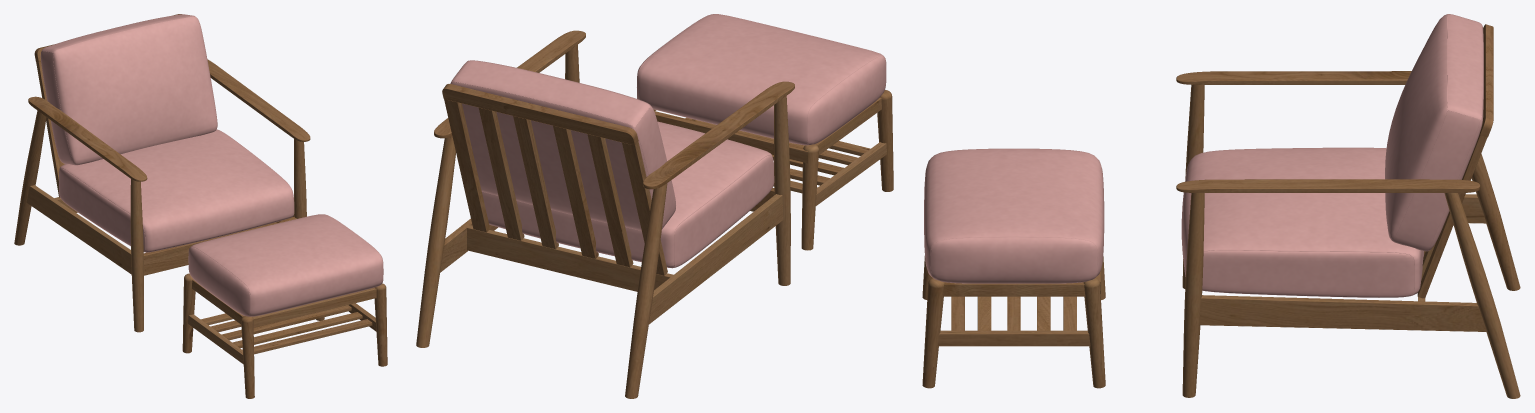
The model's file is chair_67_07.001.fbx.
3 renders of one model, left to right at view 1: azimuth 30°, elevation 25°; view 2: azimuth 150°, elevation 25°; view 3: azimuth 270°, elevation 25°, orthographic. The views are drawn at different scales.
Visible parts, largest first — view 1: chair_67_07.001; view 2: chair_67_07.001; view 3: chair_67_07.001.
Boxes of the visible parts, left/top/right/bottom form: chair_67_07.001: left=14, top=14, right=387, bottom=398; chair_67_07.001: left=416, top=14, right=893, bottom=398; chair_67_07.001: left=922, top=14, right=1520, bottom=398.
Bounding box in the file's own units: 76.92 × 87.2 × 165.
1 material, 1 textured.
